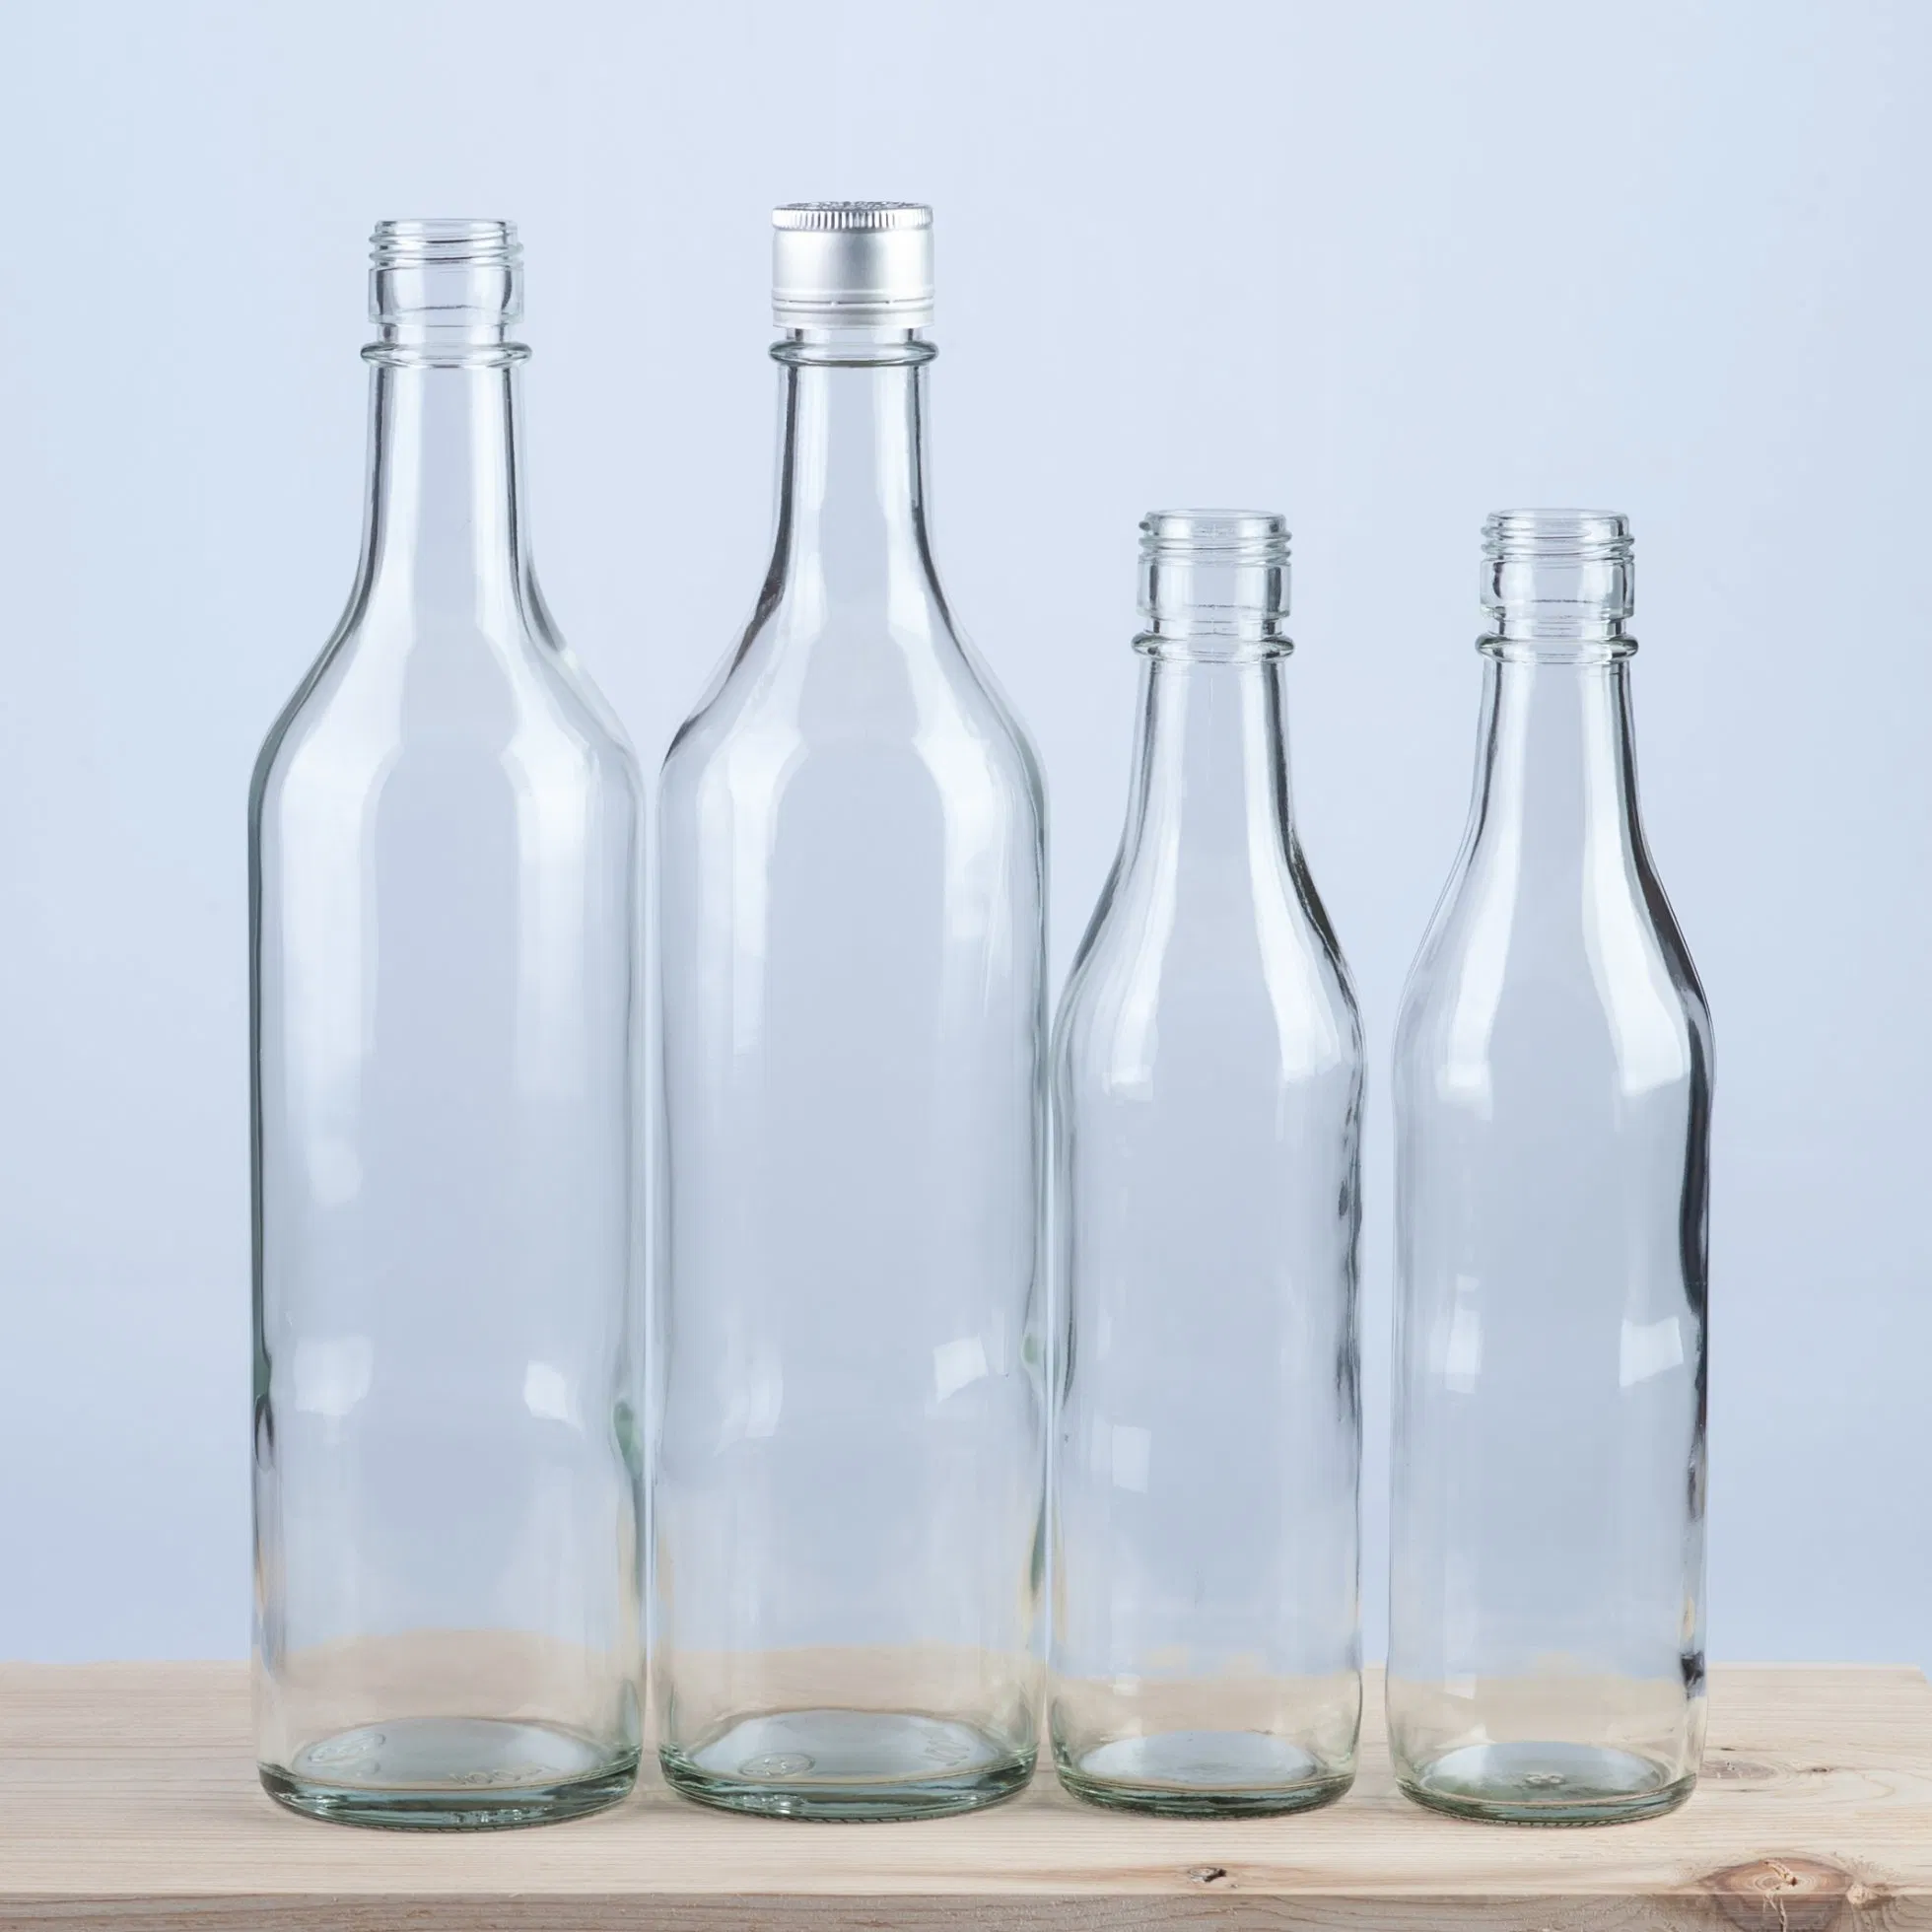glass_bottle: (200, 202, 646, 1844), (656, 177, 1042, 1833), (1387, 490, 1727, 1833), (1060, 494, 1375, 1831)
